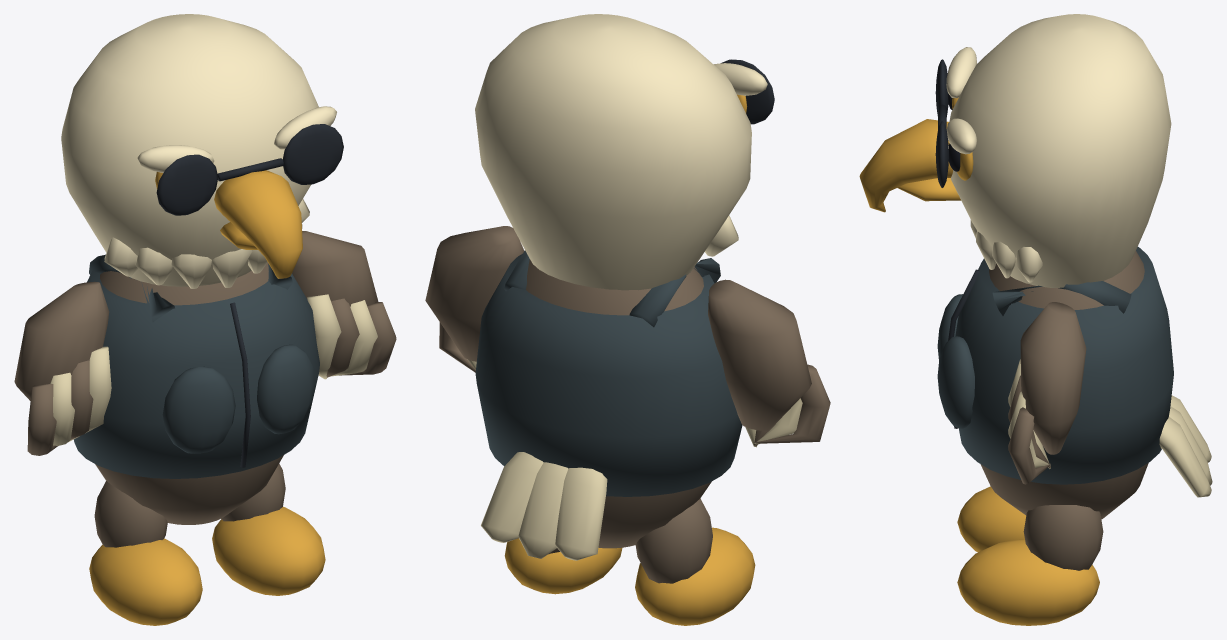
The model's file is eagle.glb.
3 renders of one model, left to right at view 1: azimuth 30°, elevation 25°; view 2: azimuth 150°, elevation 25°; view 3: azimuth 270°, elevation 25°, orthographic. The views are drawn at different scales.
Parts seen in each view (by area): view 1: Head_mesh, Gear_Vest_mesh, common_eagle_leftArm_mesh, LeftFoot_mesh, common_eagle_rightArm_mesh, RightFoot_mesh, eagle_plush_body, Gear_Glasses_mesh; view 2: Head_mesh, Gear_Vest_mesh, common_eagle_leftArm_mesh, LeftFoot_mesh, common_eagle_tail_mesh, common_eagle_rightArm_mesh, eagle_plush_body, RightFoot_mesh, Gear_Glasses_mesh; view 3: Head_mesh, Gear_Vest_mesh, RightFoot_mesh, common_eagle_rightArm_mesh, eagle_plush_body, common_eagle_tail_mesh, LeftFoot_mesh, Gear_Glasses_mesh.
Part boxes in pixels (bbox=[...]): Head_mesh: bbox=[61, 14, 336, 288]; Gear_Vest_mesh: bbox=[73, 254, 319, 478]; common_eagle_leftArm_mesh: bbox=[14, 281, 111, 455]; LeftFoot_mesh: bbox=[89, 481, 202, 625]; common_eagle_rightArm_mesh: bbox=[292, 231, 396, 379]; RightFoot_mesh: bbox=[212, 463, 325, 595]; eagle_plush_body: bbox=[95, 262, 283, 524]; Gear_Glasses_mesh: bbox=[156, 124, 343, 215]; Head_mesh: bbox=[475, 14, 767, 290]; Gear_Vest_mesh: bbox=[475, 250, 742, 496]; common_eagle_leftArm_mesh: bbox=[708, 279, 830, 447]; LeftFoot_mesh: bbox=[635, 498, 755, 625]; common_eagle_tail_mesh: bbox=[481, 452, 607, 560]; common_eagle_rightArm_mesh: bbox=[425, 226, 524, 372]; eagle_plush_body: bbox=[526, 259, 711, 548]; RightFoot_mesh: bbox=[504, 538, 622, 594]; Gear_Glasses_mesh: bbox=[721, 59, 774, 124]; Head_mesh: bbox=[859, 14, 1171, 287]; Gear_Vest_mesh: bbox=[937, 247, 1173, 484]; RightFoot_mesh: bbox=[957, 505, 1103, 625]; common_eagle_rightArm_mesh: bbox=[1008, 302, 1086, 484]; eagle_plush_body: bbox=[980, 251, 1148, 519]; common_eagle_tail_mesh: bbox=[1159, 395, 1212, 497]; LeftFoot_mesh: bbox=[957, 486, 1026, 552]; Gear_Glasses_mesh: bbox=[935, 59, 948, 187].
Size of the model in its own units: 1.29 by 1.87 by 1.06.
